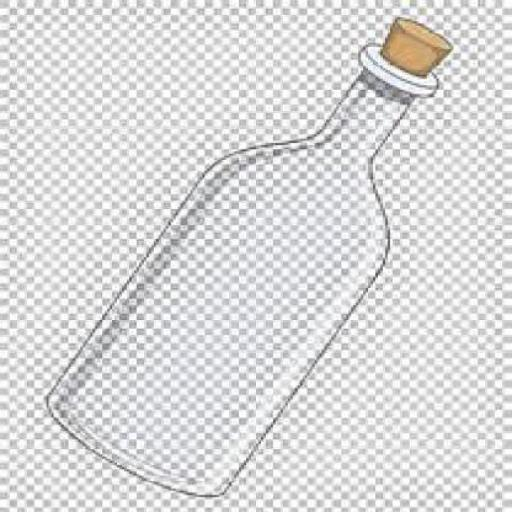glass: (44, 40, 434, 494)
